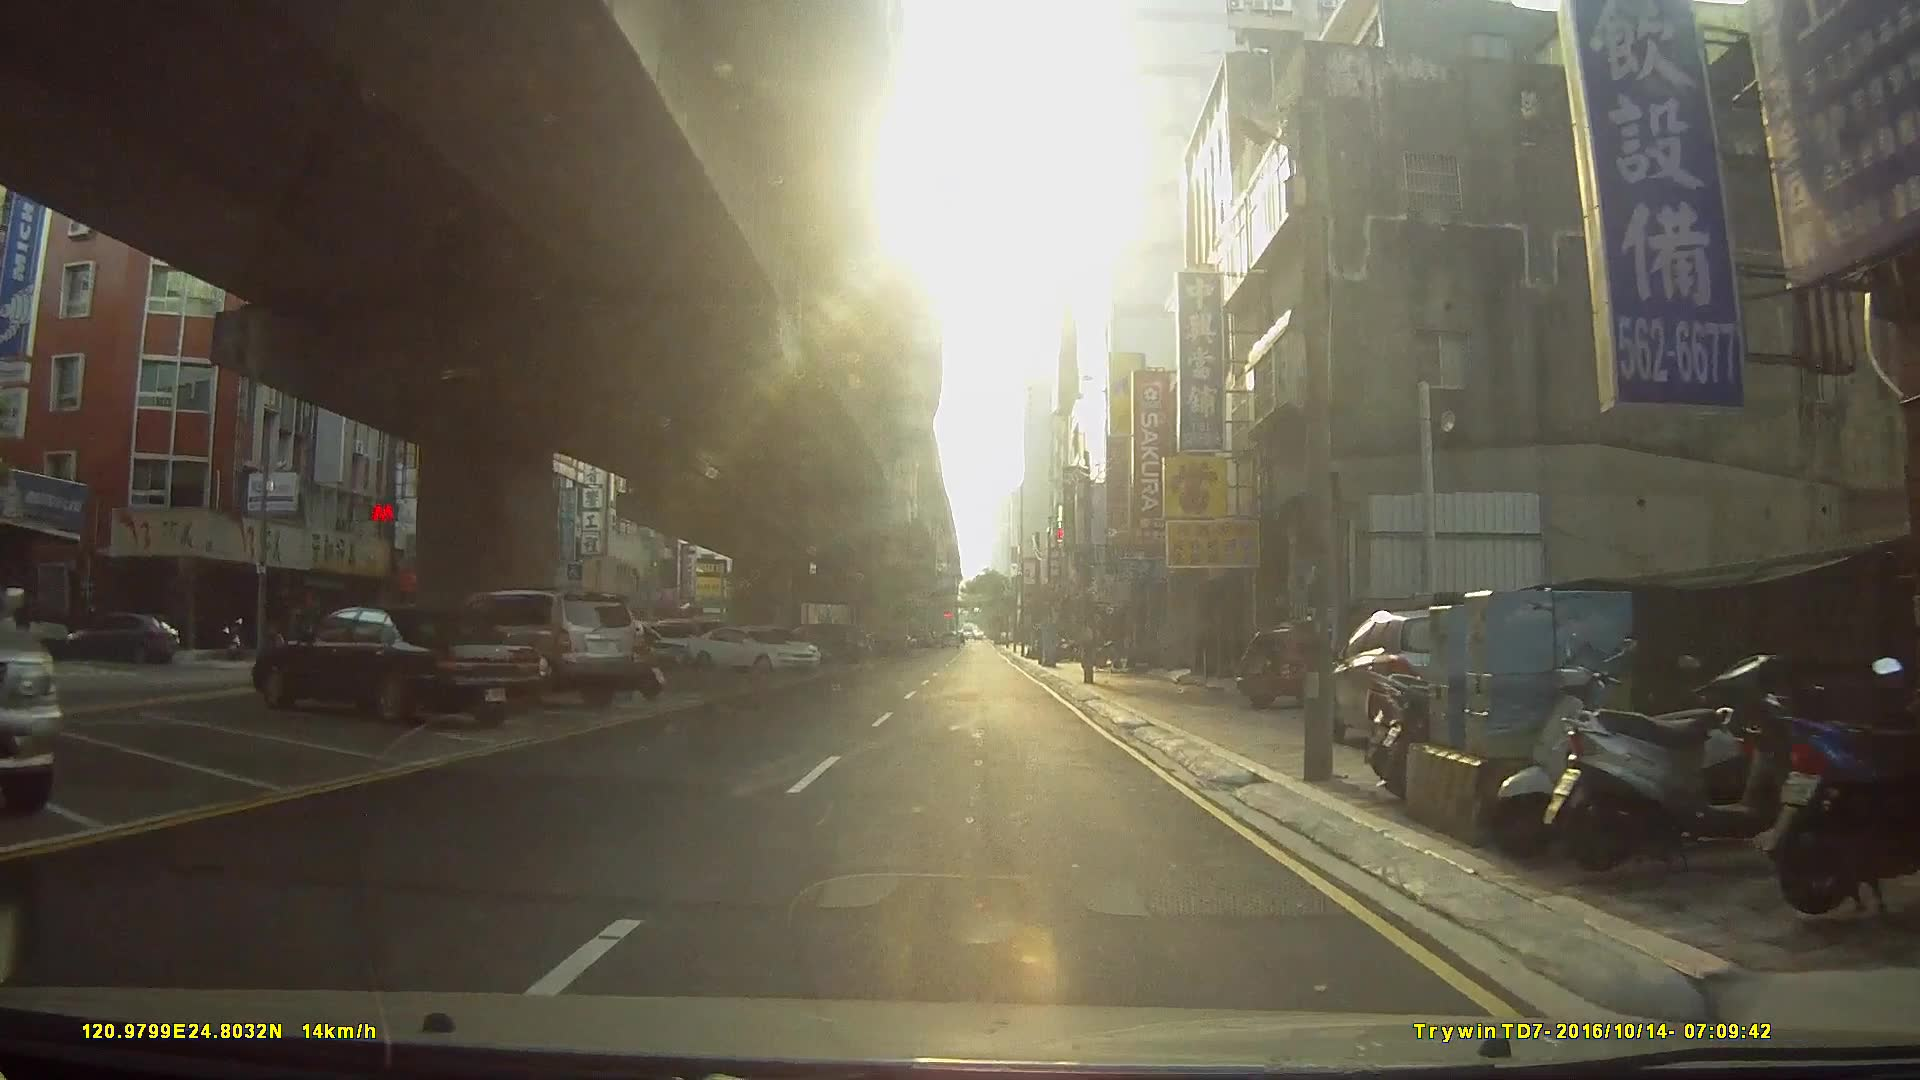vehicle: (251, 604, 549, 729), (1320, 607, 1505, 746), (440, 588, 640, 709), (1236, 617, 1367, 709), (683, 625, 822, 676), (66, 609, 178, 663)
